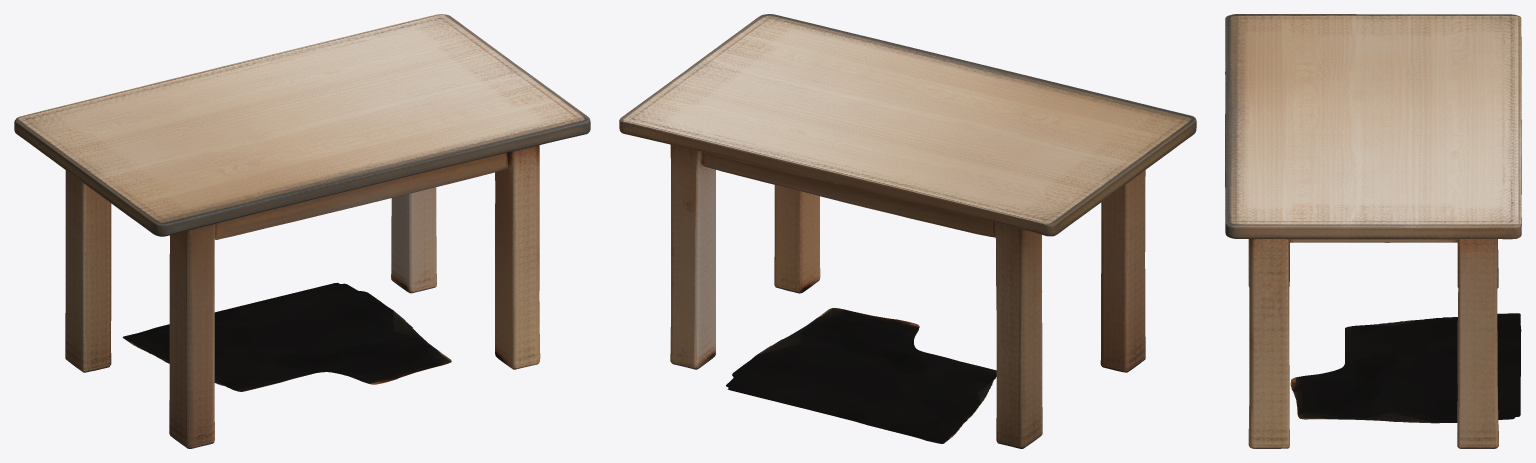
The model's file is desk.glb.
The picture shows the model from 3 angles, left to right: view 1: azimuth 30°, elevation 25°; view 2: azimuth 150°, elevation 25°; view 3: azimuth 270°, elevation 25°; orthographic projection.
Parts seen in each view (by area): view 1: world; view 2: world; view 3: world.
Boxes of the visible parts, bbox=[...] form: world: bbox=[14, 14, 590, 448]; world: bbox=[619, 14, 1196, 448]; world: bbox=[1225, 14, 1521, 448].
Size of the model in its own units: 1 by 0.5413 by 0.5893.
Materials: 1 (1 with a texture image).
